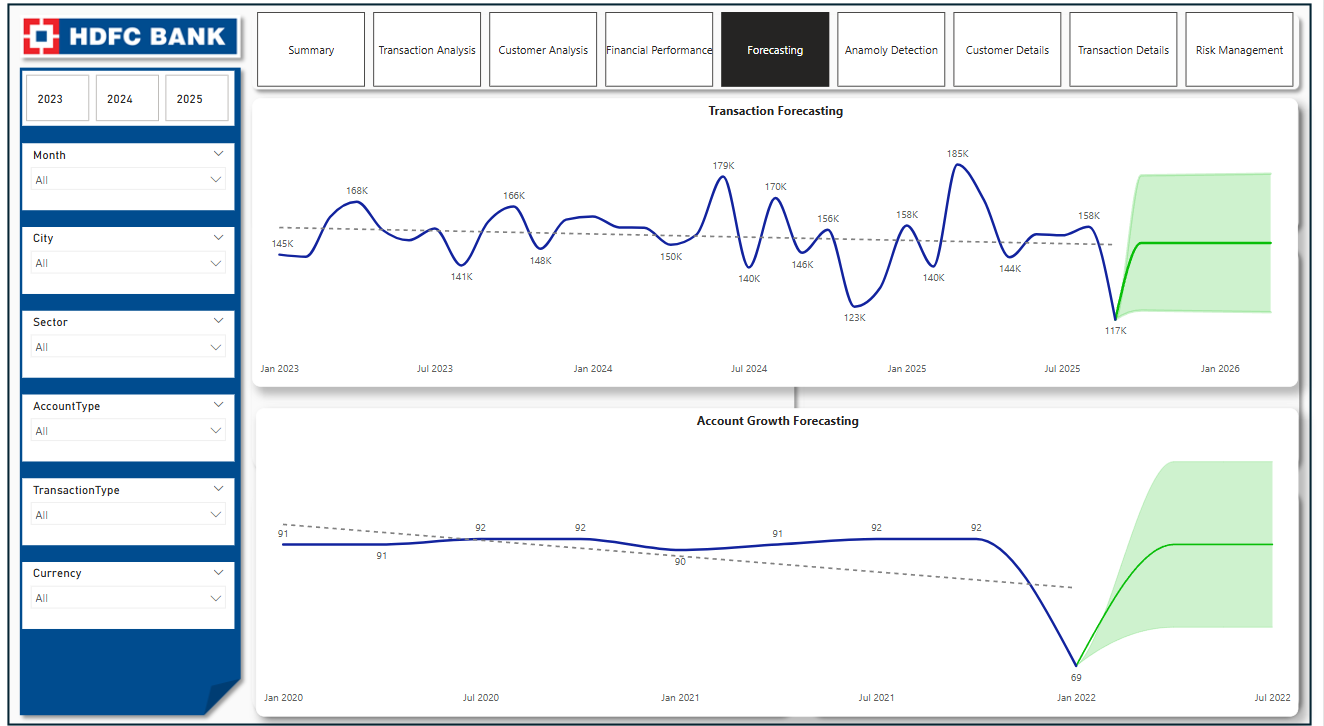

Layout of this report page (visuals, bound fields, positions):
{"tool":"powerbi","page":{"name":" Advanced Insights & Trends","canvas":[1600,900],"ordinal":5},"visuals":[{"type":"cardVisual","fields":{"Data":["All Measures.Total Transaction Amount","All Measures.Total Transactions","All Measures.Total Balance","All Measures.Total Loan Amount","All Measures.Average Credit Score","All Measures.Total Accounts","All Measures.Average Interest Rate"]},"box":[236.7,13.3,1341.7,90],"z":0},{"type":"lineChart","title":"Transaction Forecasting","fields":{"Category":["CalendarTable.Date.Variation.Date Hierarchy.Year","CalendarTable.Date.Variation.Date Hierarchy.Quarter","CalendarTable.Date.Variation.Date Hierarchy.Month","CalendarTable.Date.Variation.Date Hierarchy.Day"],"Y":["Sum(banking_transactions.Amount)"]},"box":[236.7,116.7,1341.7,238.3],"z":1000},{"type":"lineChart","title":"Anamoly Detection ","fields":{"Y":["Sum(banking_transactions.Amount)"],"Category":["CalendarTable.Date.Variation.Date Hierarchy.Year","CalendarTable.Date.Variation.Date Hierarchy.Quarter","CalendarTable.Date.Variation.Date Hierarchy.Month","CalendarTable.Date.Variation.Date Hierarchy.Day"]},"box":[236.7,618.3,1341.7,260],"z":2000},{"type":"lineChart","title":"Account Growth Forecasting","fields":{"Y":["All Measures2.Monthly Account Openings"],"Category":["AccountOpeningDateTable.Date.Variation.Date Hierarchy.Year","AccountOpeningDateTable.Date.Variation.Date Hierarchy.Quarter","AccountOpeningDateTable.Date.Variation.Date Hierarchy.Month","AccountOpeningDateTable.Date.Variation.Date Hierarchy.Day"]},"box":[236.7,371.7,1341.7,230],"z":3000},{"type":"pageNavigator","box":[16.7,268.3,196.7,38.3],"z":4000},{"type":"pageNavigator","box":[16.7,381.7,196.7,43.3],"z":5000},{"type":"pageNavigator","box":[16.7,483.3,196.7,53.3],"z":6000},{"type":"pageNavigator","box":[16.7,590,196.7,50],"z":7000},{"type":"pageNavigator","box":[16.7,696.7,196.7,50],"z":8000},{"type":"pageNavigator","box":[16.7,808.3,196.7,40],"z":9000},{"type":"image","box":[83.3,118.3,61.7,48.3],"z":10000}]}

Visuals, with their boxes on the page's 1600x900 design canvas (x1, y1, x2, y2). These are canvas units, not pixel positions in the 1324x726 screenshot, which may show the page scaled, cropped or inside an application window:
cardVisual - All Measures.Total Transaction Amount x All Measures.Total Transactions: x1=237 y1=13 x2=1578 y2=103
"Transaction Forecasting" lineChart: x1=237 y1=117 x2=1578 y2=355
"Anamoly Detection " lineChart: x1=237 y1=618 x2=1578 y2=878
"Account Growth Forecasting" lineChart: x1=237 y1=372 x2=1578 y2=602
pageNavigator: x1=17 y1=268 x2=213 y2=307
pageNavigator: x1=17 y1=382 x2=213 y2=425
pageNavigator: x1=17 y1=483 x2=213 y2=537
pageNavigator: x1=17 y1=590 x2=213 y2=640
pageNavigator: x1=17 y1=697 x2=213 y2=747
pageNavigator: x1=17 y1=808 x2=213 y2=848
image: x1=83 y1=118 x2=145 y2=167
